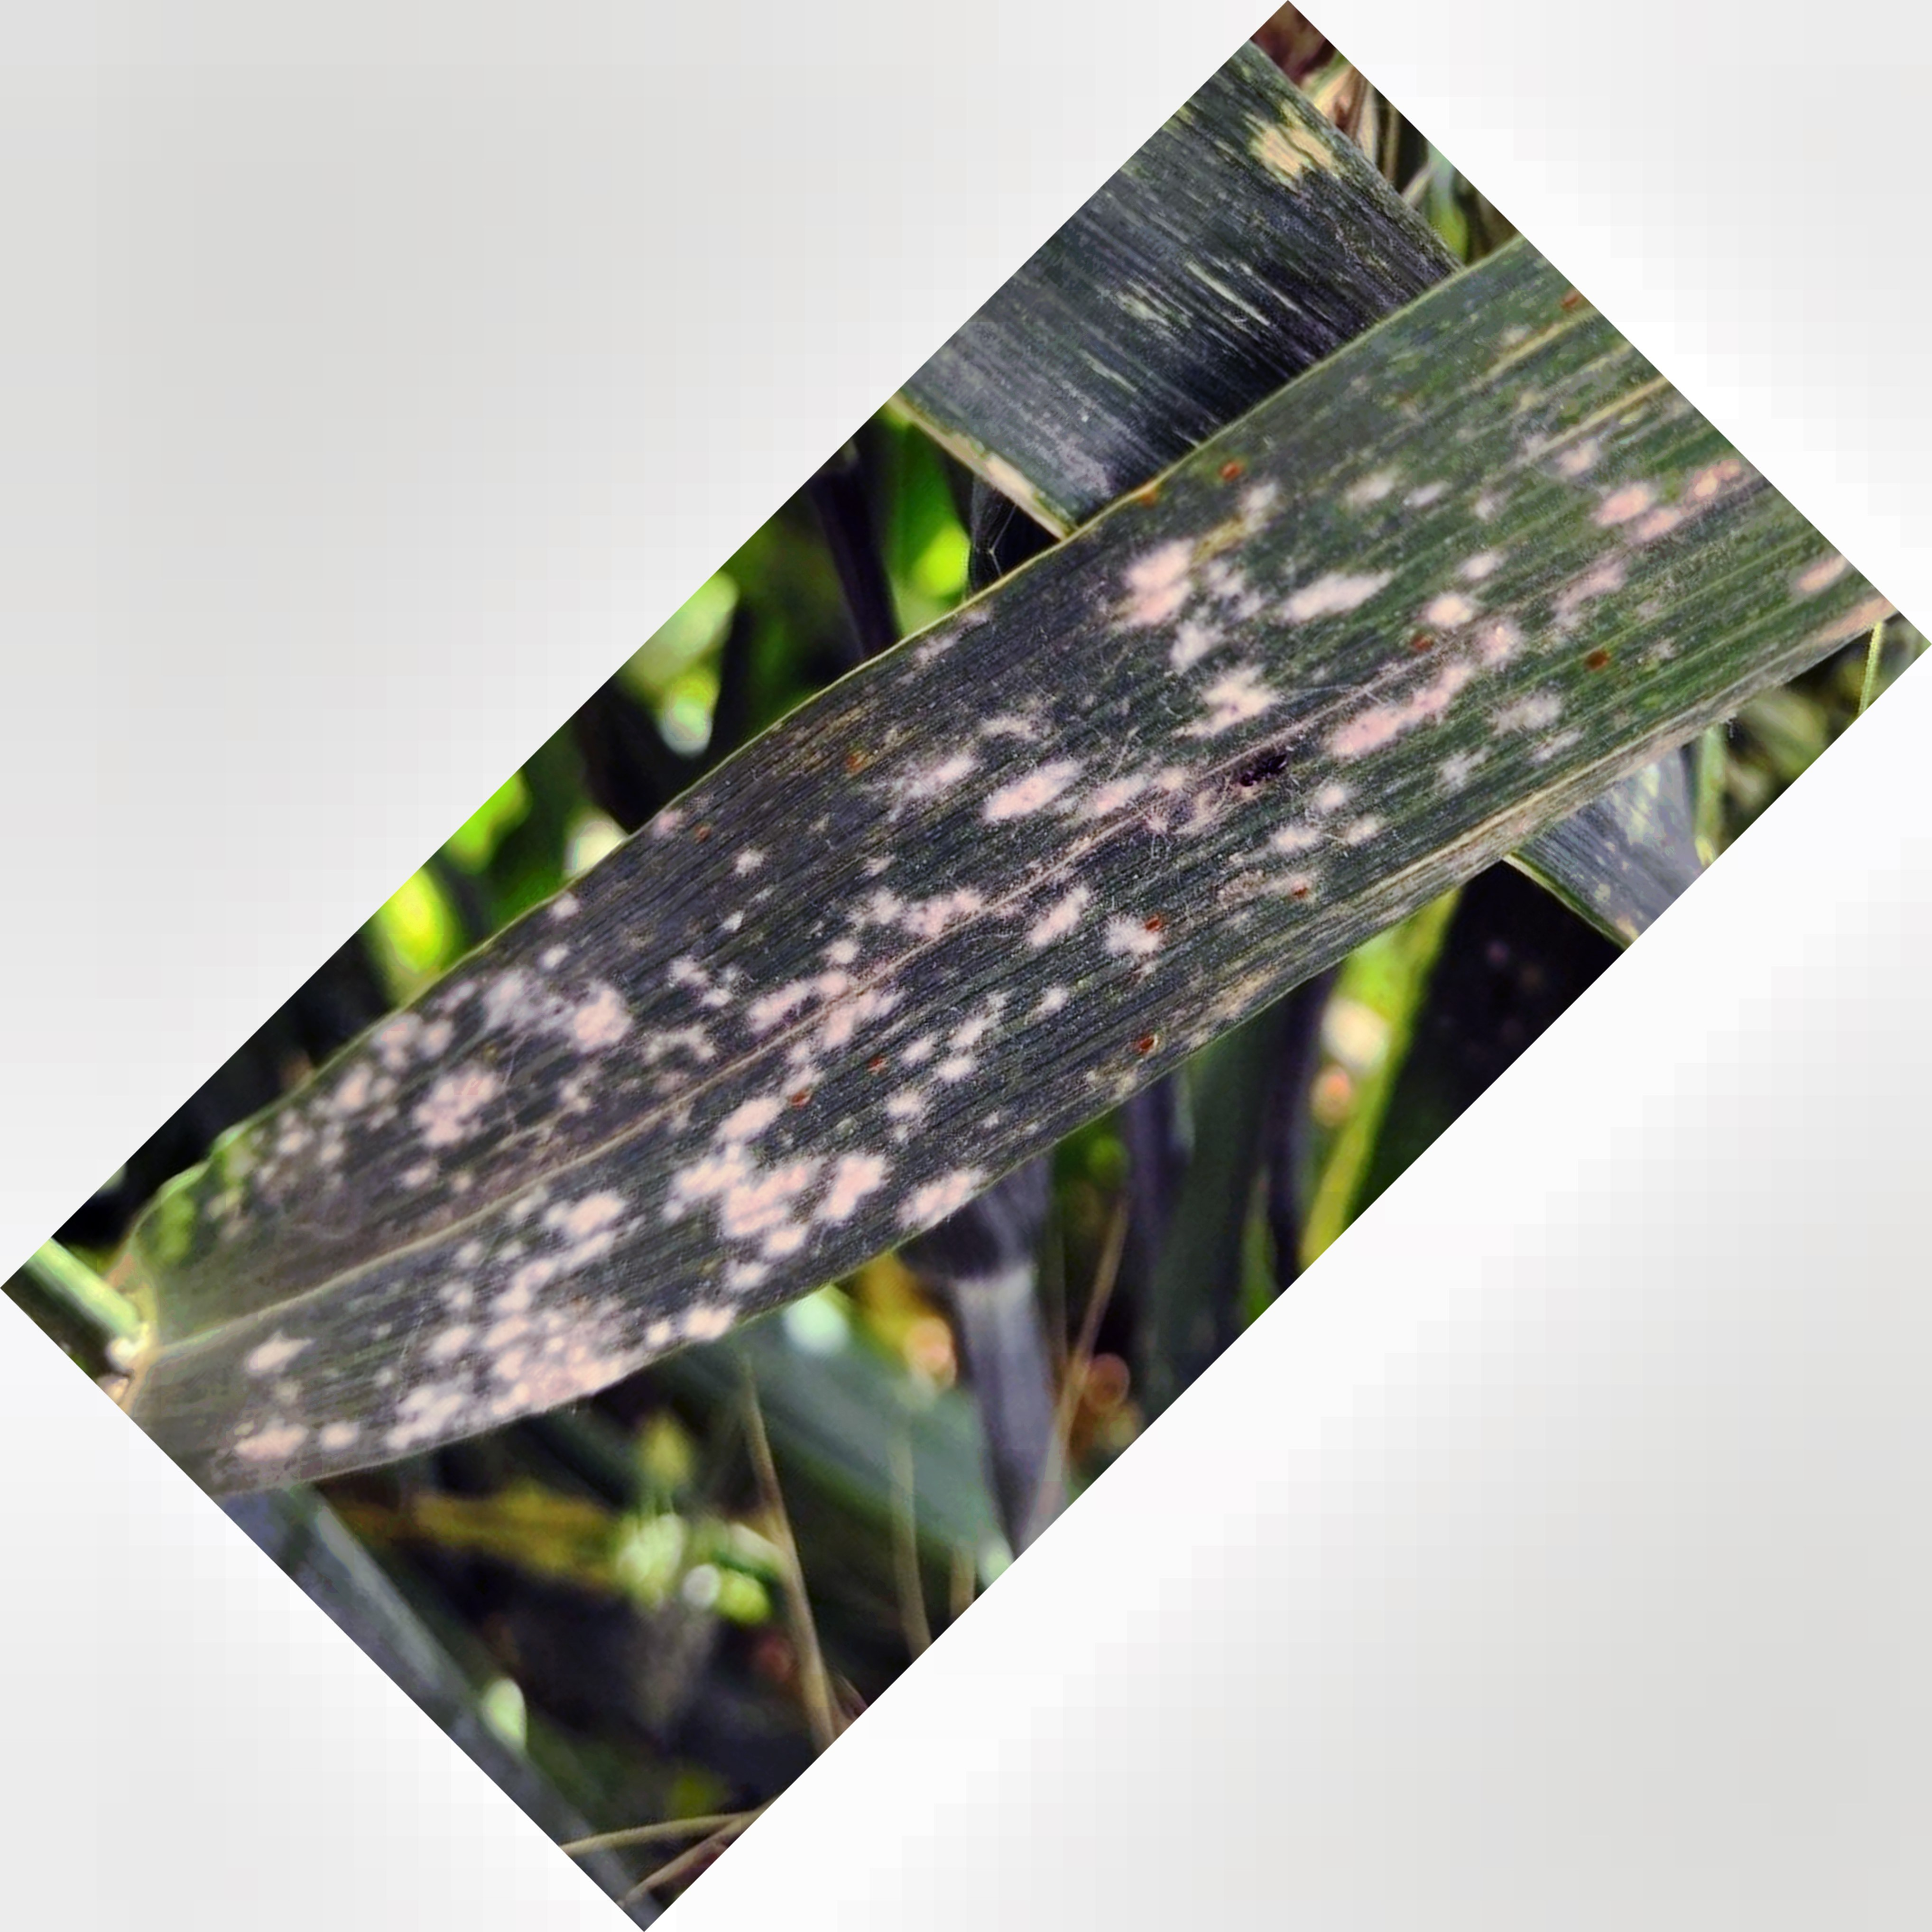Powdery Mildew: (379, 469, 1495, 1403)
